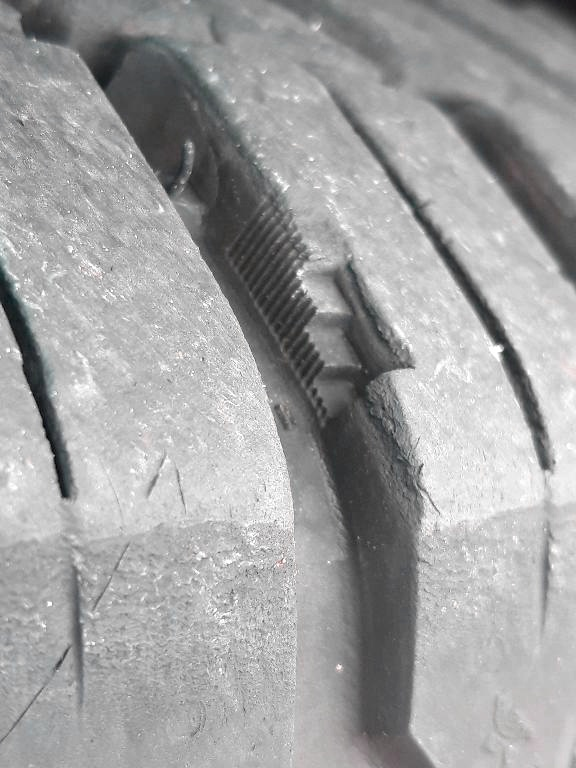temoin:80: (204, 171, 424, 440)
